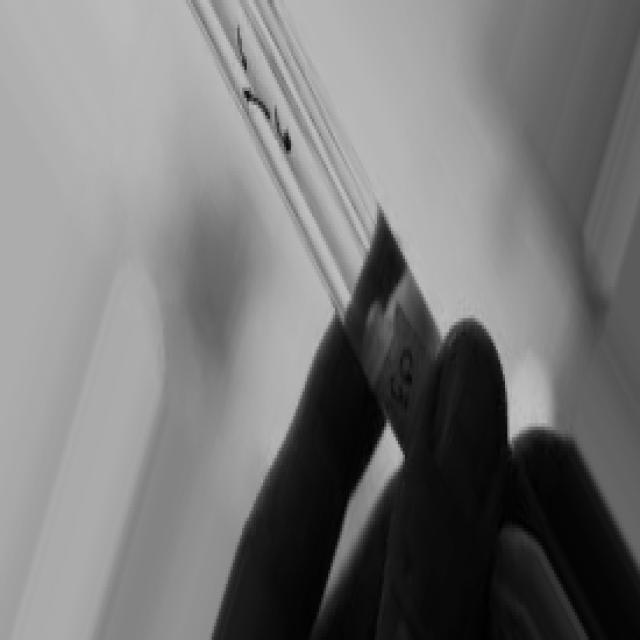larvas: (241, 88, 271, 116), (274, 106, 292, 148), (232, 27, 250, 69)
